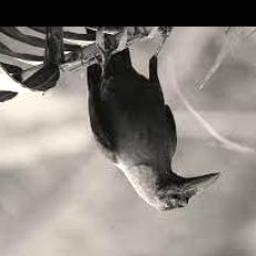Crow: (86, 28, 221, 212)
